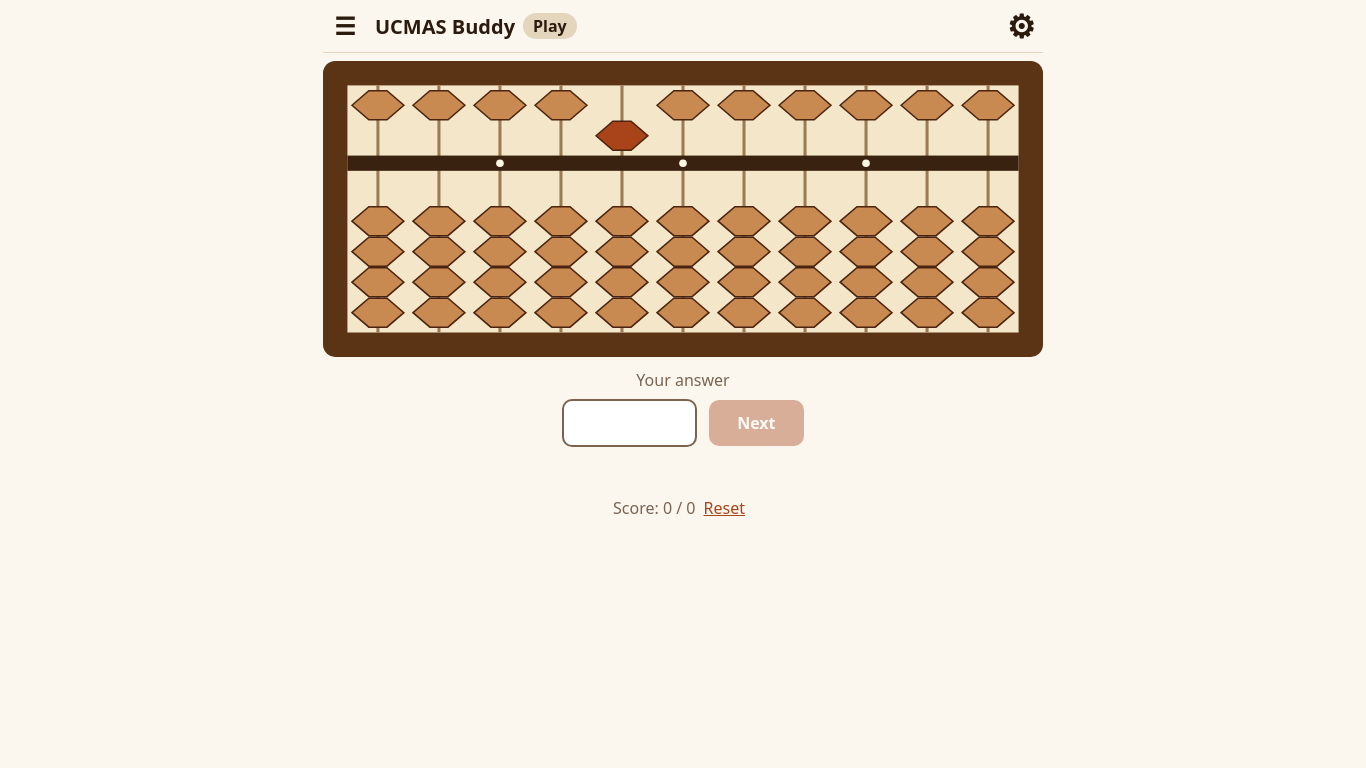
Test: <App> › voice answers (epic 004) › offers the switch when the browser uses the standard name
The width and height of the screenshot is (1366, 768).
Click the button named "open settings": coordinates (1021, 26) x1=999 y1=4 x2=1043 y2=48
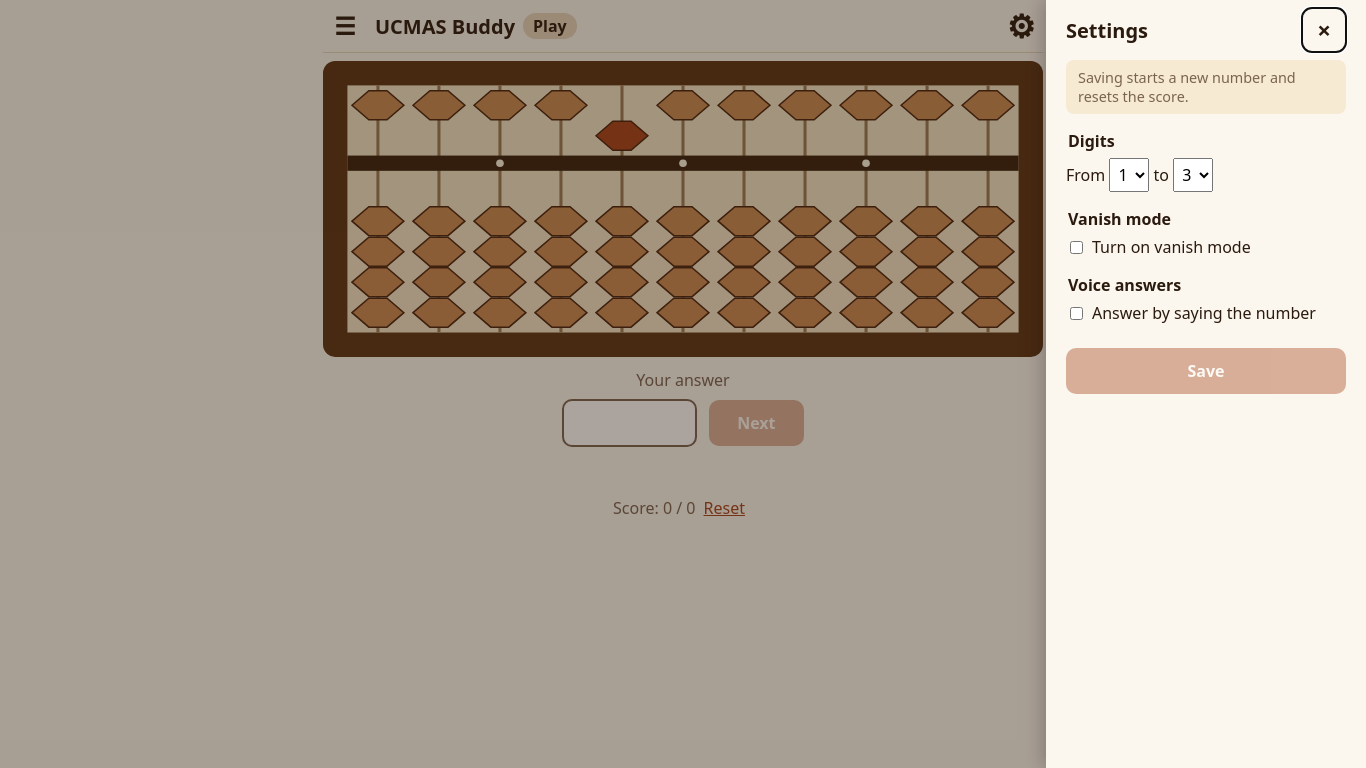
Expected: the checkbox labelled "Answer by saying the number" is shown, x1=1070 y1=306 x2=1083 y2=320
